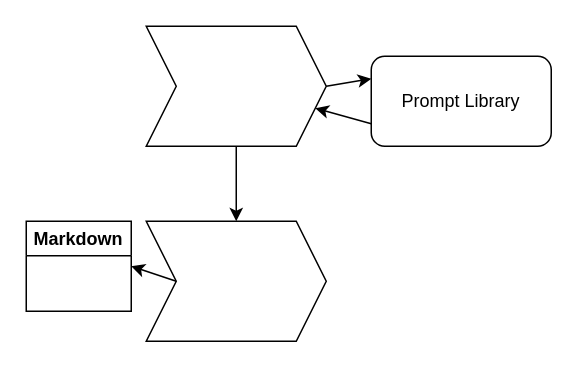
Image size: 578x368. Some labels were removed from this diagram. The centre of each missing label's shape, as x and y in pixels:
"VIRA" goes at [235,85].
"VIRA Copilot" goes at [235,280].
